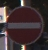No entry: (5, 5, 43, 45)
